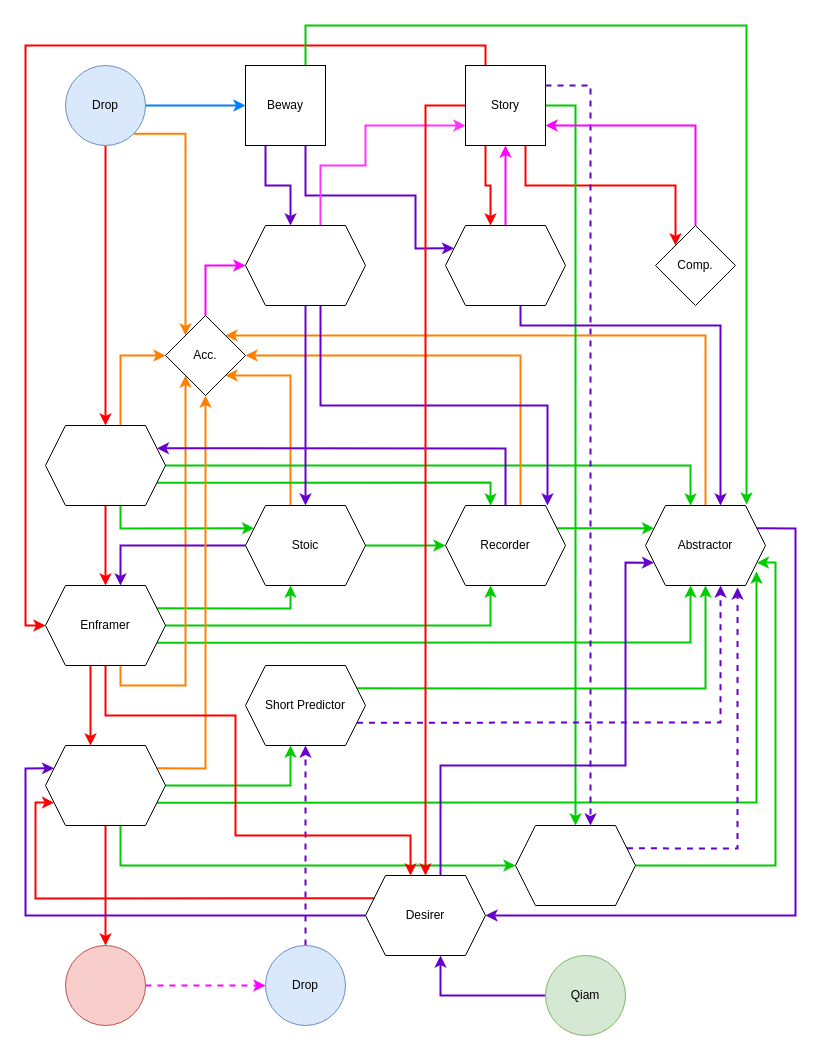
Image size: 821x1053. Some labels were removed from this diagram. The centre of each missing label's shape, as x and y in pixels:
"Actor" belongs at (x=105, y=785).
"Do" belongs at (x=105, y=985).
"Interpreter" belongs at (x=305, y=265).
"Long Predictor" belongs at (x=575, y=865).
"Retrointerpreter" belongs at (x=505, y=265).
"Sensor" belongs at (x=105, y=465).
